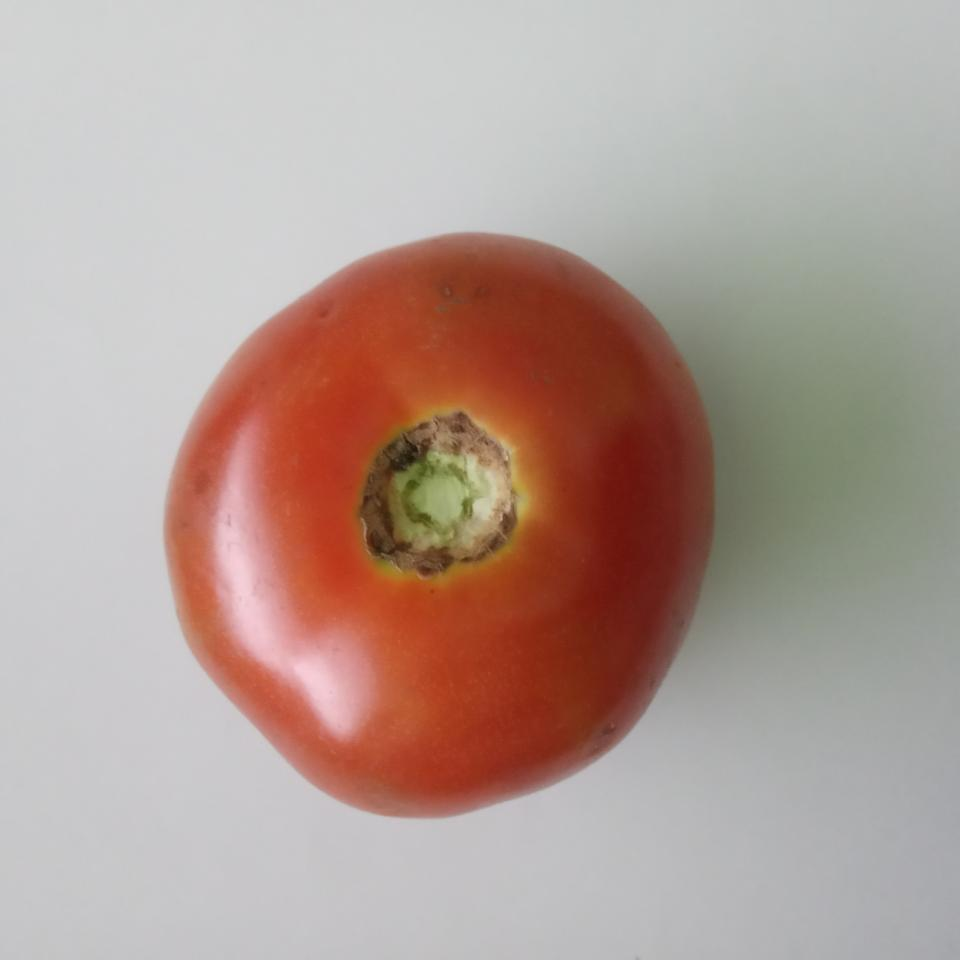Healthy: (139, 210, 737, 837)
